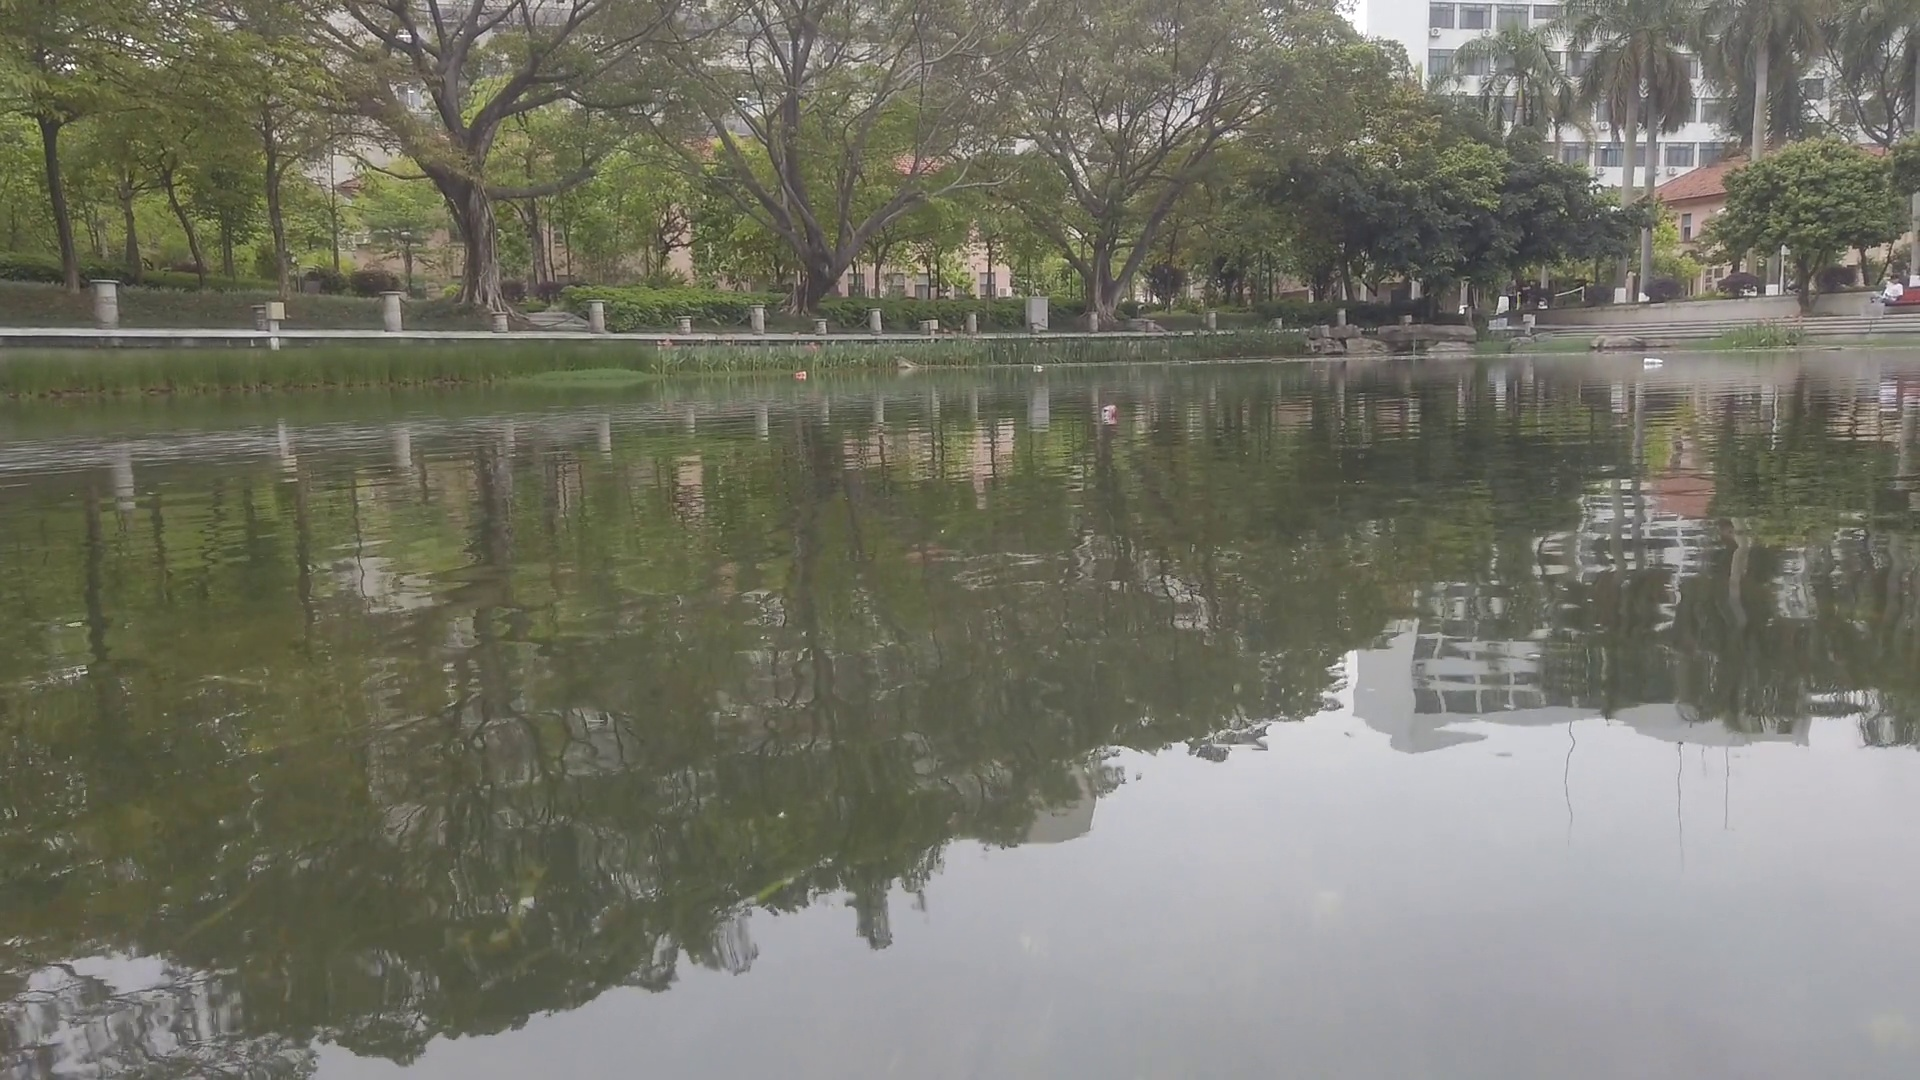bottle: (1101, 404, 1121, 418), (1644, 357, 1665, 365), (793, 371, 808, 378), (1031, 363, 1044, 371)
